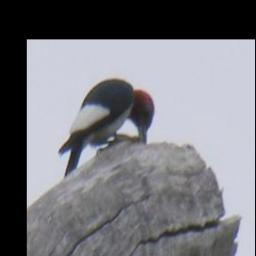Woodpecker: (54, 75, 159, 180)
